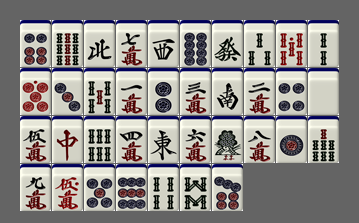0m: (52, 164, 83, 211)
0p: (20, 68, 51, 115)
0s: (276, 20, 307, 67)
1m: (116, 68, 147, 115)
1p: (276, 116, 307, 163)
1s: (212, 116, 243, 163)
1z: (148, 116, 179, 163)
2m: (244, 68, 275, 115)
2p: (148, 68, 179, 115)
2s: (308, 20, 339, 67)
2z: (212, 68, 243, 115)
3m: (180, 68, 211, 115)
3p: (52, 68, 83, 115)
3s: (244, 20, 275, 67)
3z: (148, 20, 179, 67)
4m: (116, 116, 147, 163)
4p: (276, 68, 307, 115)
4s: (148, 164, 179, 211)
4z: (84, 20, 115, 67)
5m: (20, 116, 51, 163)
5p: (84, 164, 115, 211)
5s: (84, 68, 115, 115)
5z: (308, 68, 339, 115)
6m: (180, 116, 211, 163)
6p: (20, 20, 51, 67)
6s: (84, 116, 115, 163)
6z: (212, 20, 243, 67)
7m: (116, 20, 147, 67)
7p: (212, 164, 243, 211)
7s: (308, 116, 339, 163)
7z: (52, 116, 83, 163)
8m: (244, 116, 275, 163)
8p: (180, 20, 211, 67)
8s: (180, 164, 211, 211)
9m: (20, 164, 51, 211)
9p: (116, 164, 147, 211)
9s: (52, 20, 83, 67)
